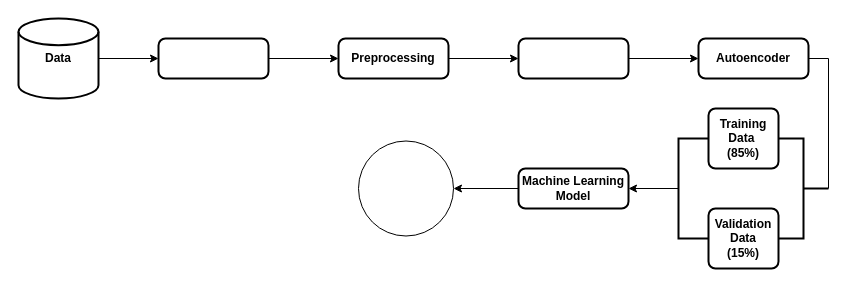
Some shapes in this 847 by 286 pixel diagram are drawn without their labels. The centre of each missing label's shape, as x and y in pixels:
Analysis: (x=213, y=58)
Getting the Desired Model: (x=406, y=188)
Vectorizing with Hashing: (x=573, y=58)
